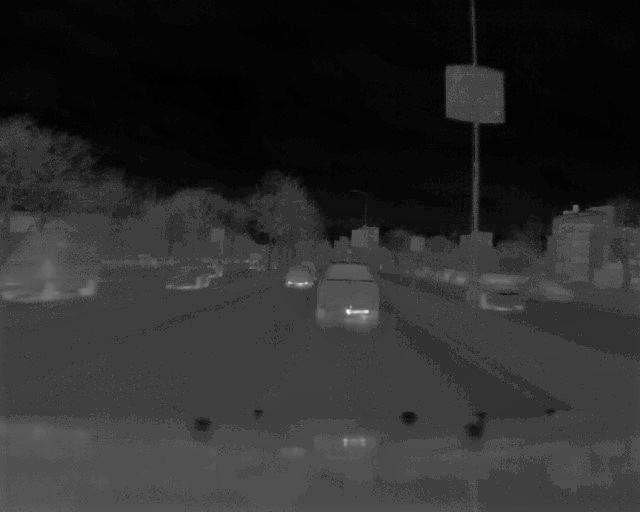car: (320, 262, 381, 333), (167, 261, 216, 295)
